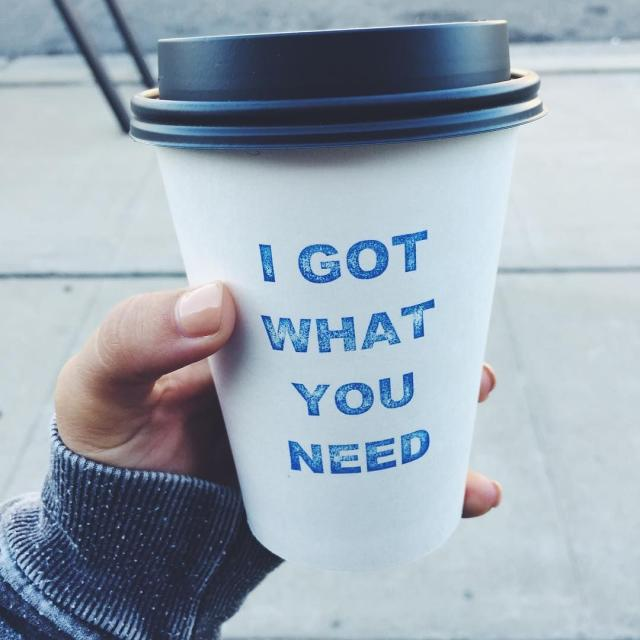paper cup: (132, 21, 549, 572)
